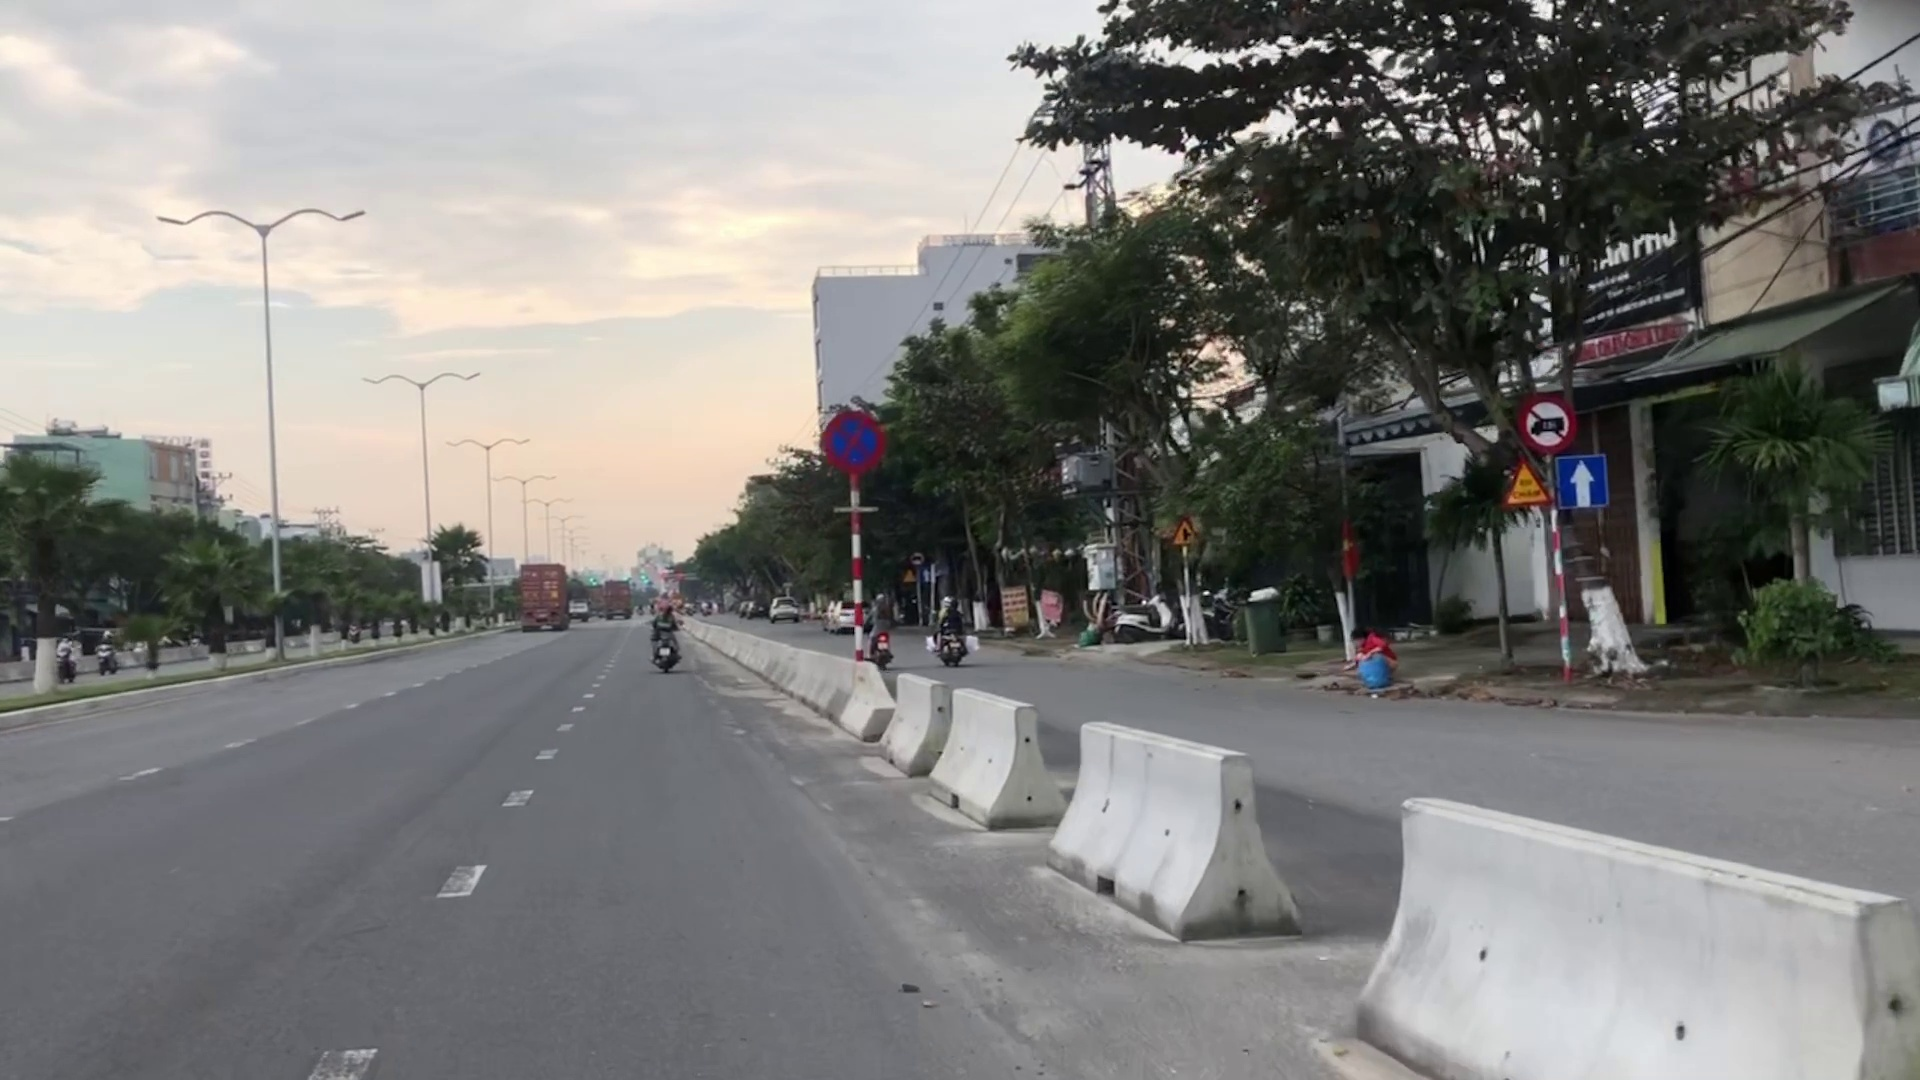Bien khac: (818, 405, 887, 476), (1553, 454, 1607, 512), (1503, 459, 1552, 513), (1523, 396, 1567, 452)
Giao nhau voi duong khong uu tien: (1170, 518, 1200, 547)
